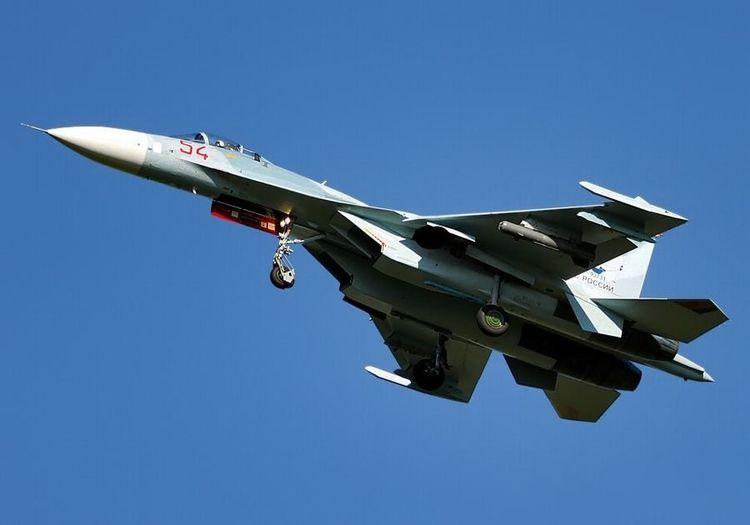airplane: (13, 111, 732, 419)
